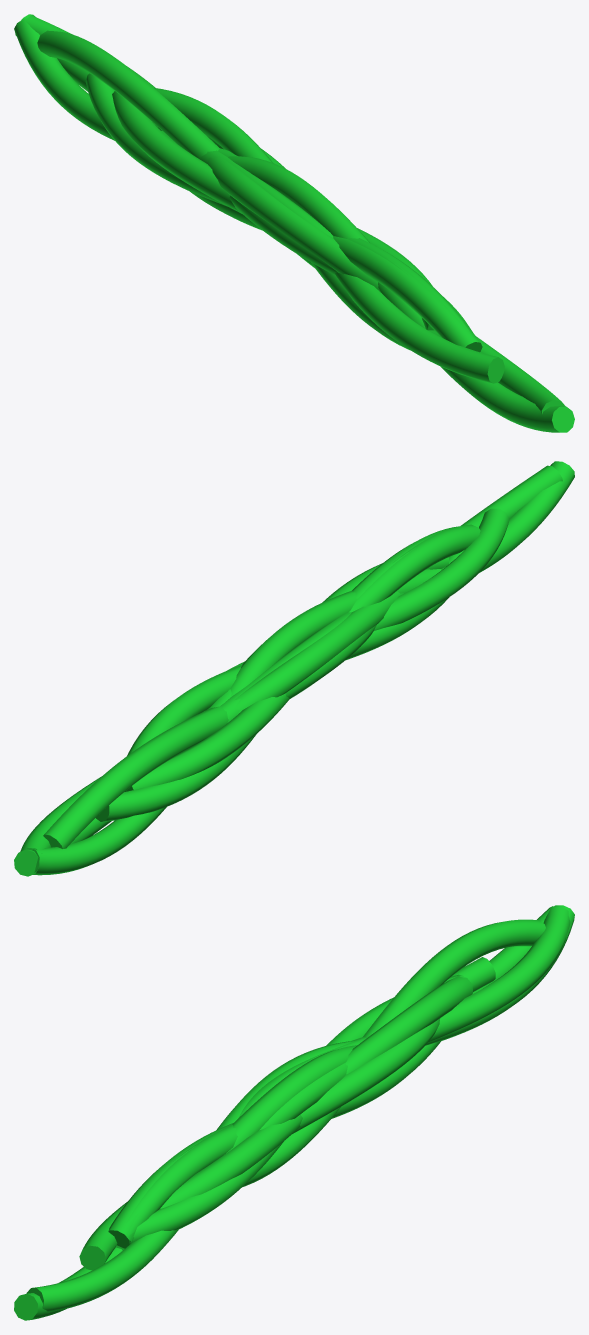
Rendered from leaf.fbx.
The picture shows the model from 3 angles, top to bottom: view 1: azimuth 30°, elevation 25°; view 2: azimuth 150°, elevation 25°; view 3: azimuth 330°, elevation 25°; orthographic projection.
Visible parts, largest first — view 1: NURBSパス; view 2: NURBSパス; view 3: NURBSパス.
Boxes of the visible parts, x1,y1,x2,y2 form: NURBSパス: [14, 14, 574, 432]; NURBSパス: [14, 461, 574, 876]; NURBSパス: [14, 905, 574, 1320].
Size of the model in its own units: 1571 by 1577 by 19143.
